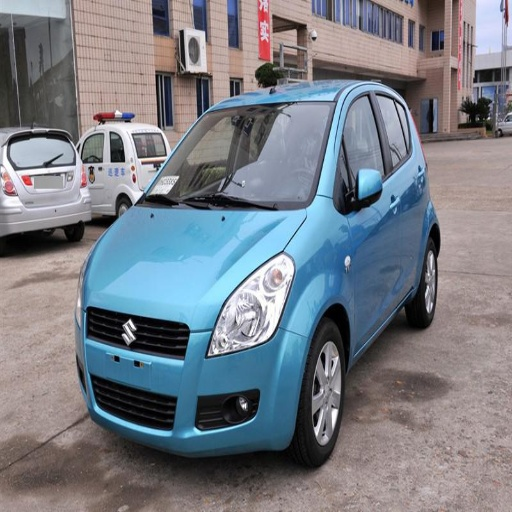front_bumper: (77, 306, 308, 457)
front_glass: (138, 104, 333, 206)
front_left_door: (335, 88, 399, 347)
